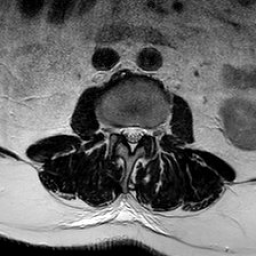CCS_normal: (128, 116, 136, 158)
LFS_normal: (145, 116, 153, 142)
LLS_normal: (136, 116, 145, 147)
RFS_normal: (112, 115, 120, 142)
RLS_normal: (120, 118, 128, 146)
